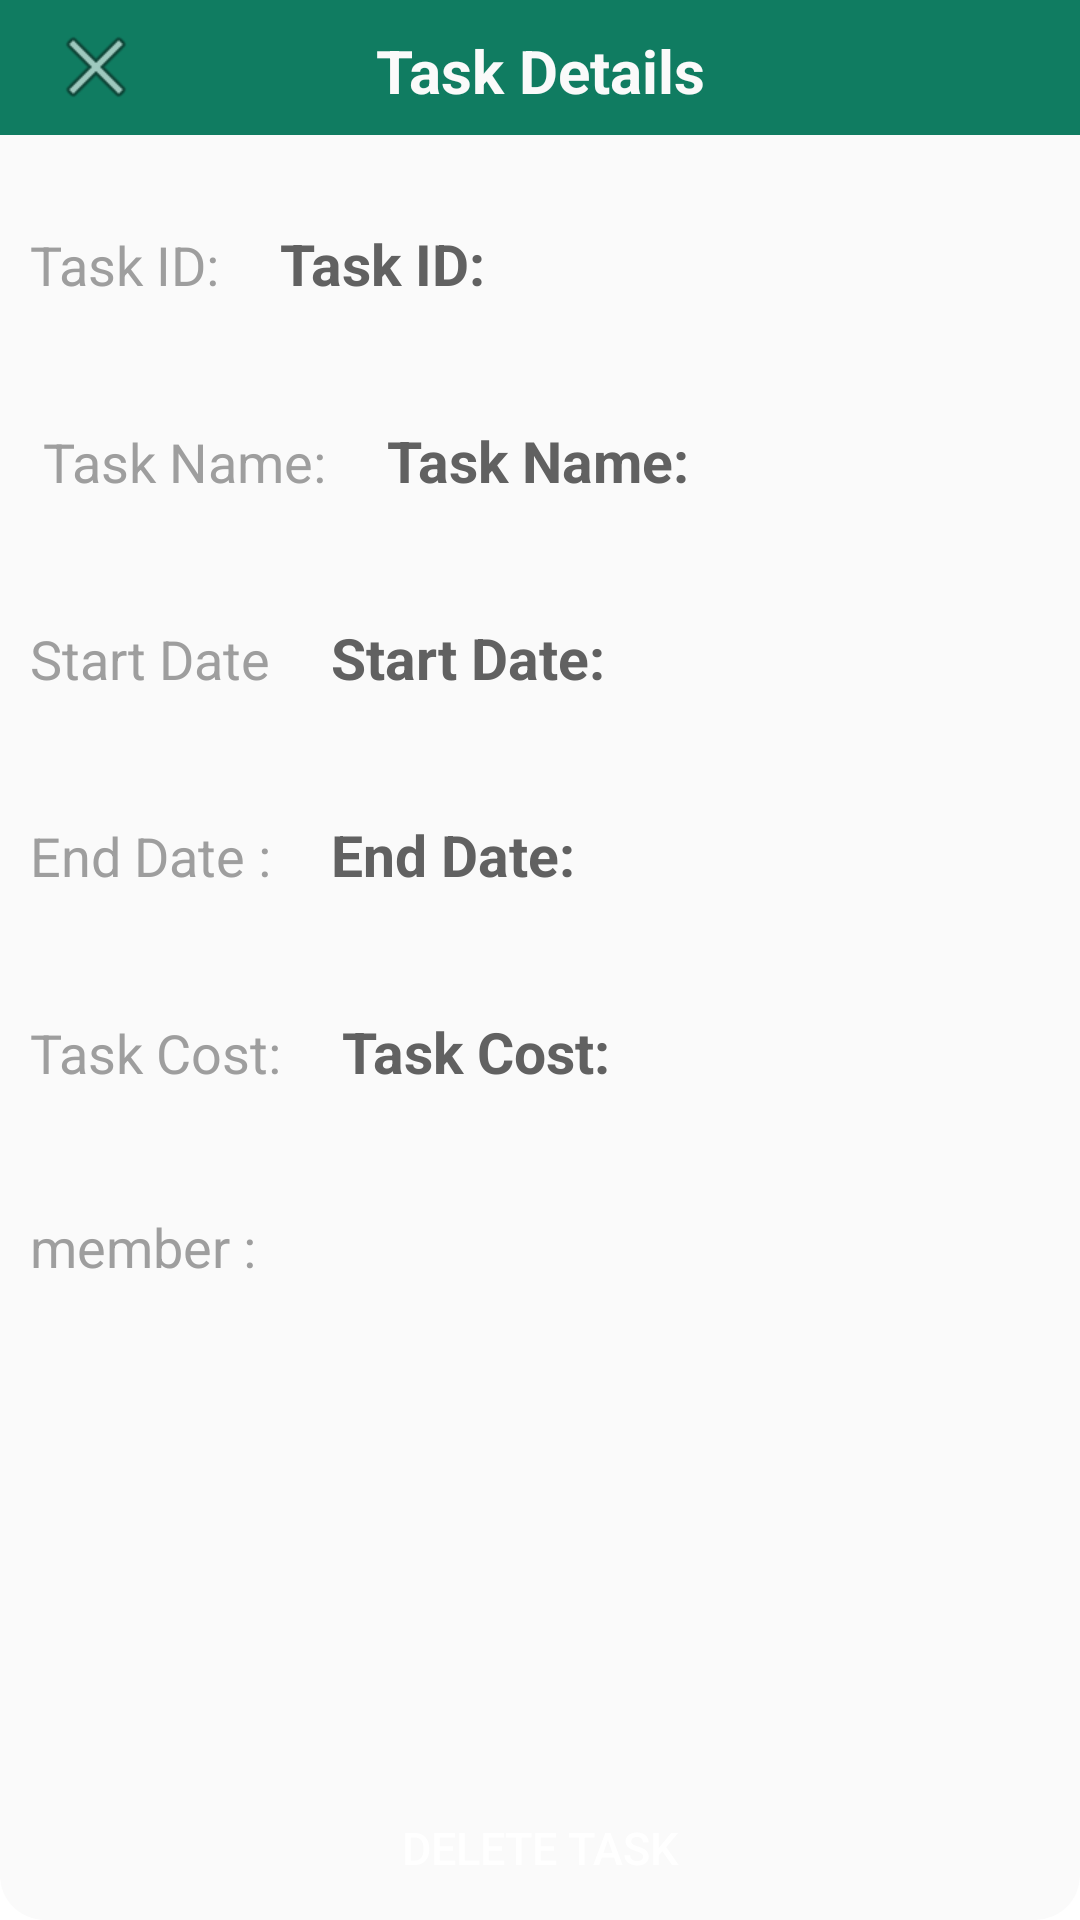

Where to tap for icons on this 1080 × 1920 app screen, as (x=x, y=y):
close clear cancel: (x=96, y=67)
